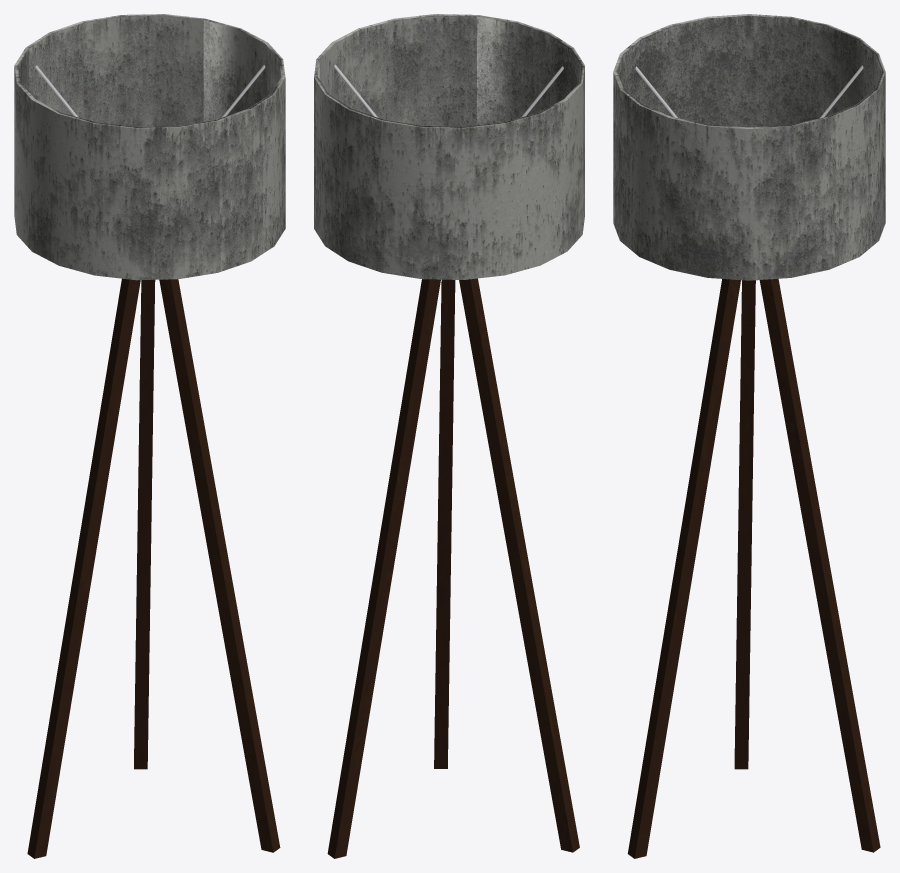
The model's file is floor_lamp_modern_nmeyers103.glb.
The picture shows the model from 3 angles, left to right: view 1: azimuth 30°, elevation 25°; view 2: azimuth 150°, elevation 25°; view 3: azimuth 270°, elevation 25°; orthographic projection.
Visible parts, largest first — view 1: defaultMaterial (×2); view 2: defaultMaterial (×2); view 3: defaultMaterial (×2).
Part boxes in pixels (x1,y1,x2,y2): defaultMaterial (×2): [14, 14, 285, 858]; defaultMaterial (×2): [314, 14, 584, 858]; defaultMaterial (×2): [613, 14, 885, 858].
Bounding box in the file's own units: 62.27 × 186 × 60.96.
5 materials, 3 textured.
